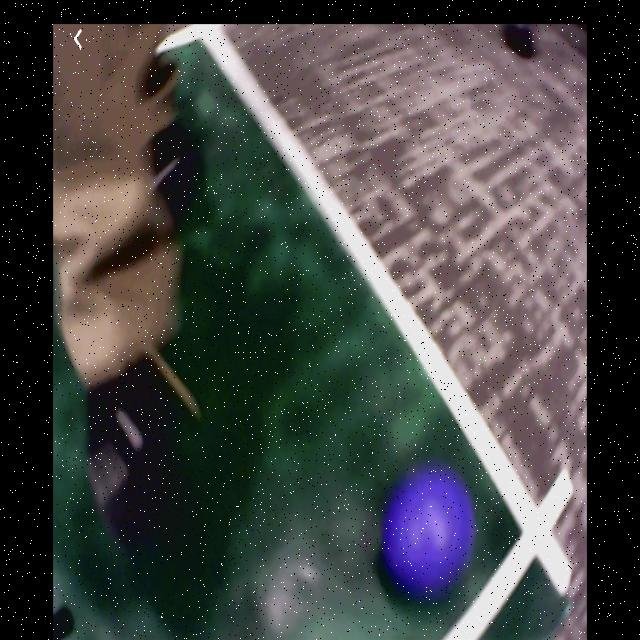ball: (386, 468, 468, 593)
